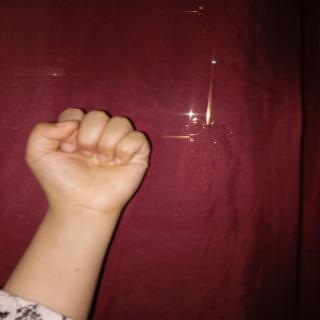SAD: (14, 102, 160, 222)
